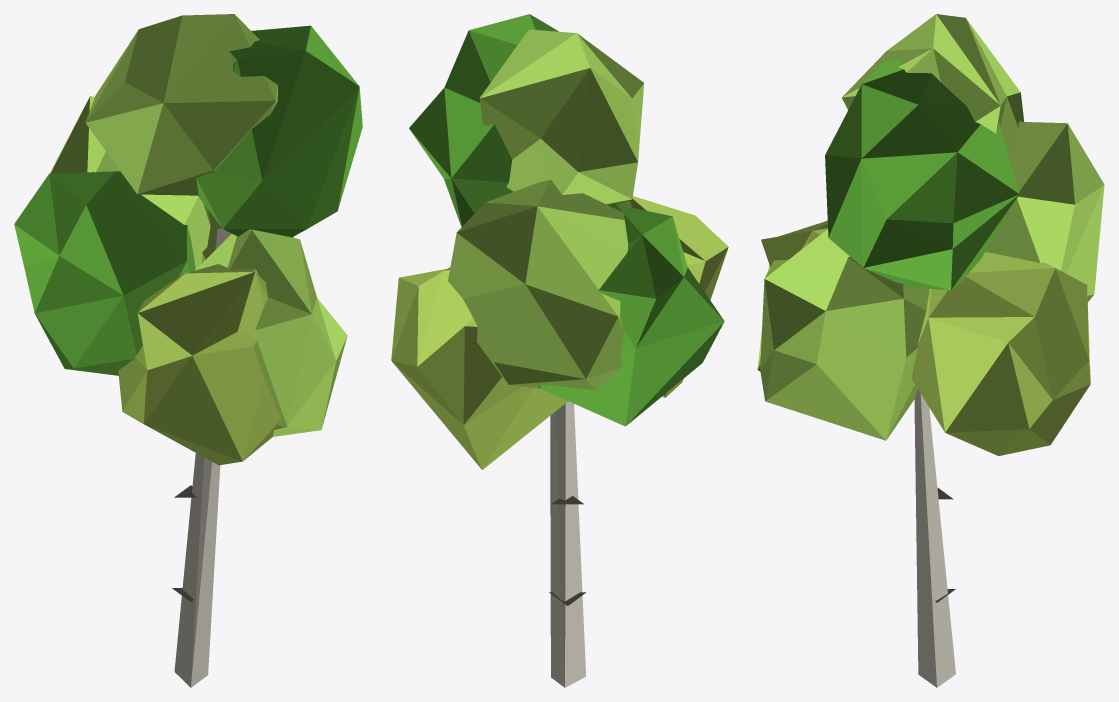
Rendered from tree_birch_2_lod1.glb.
3 renders of one model, left to right at view 1: azimuth 30°, elevation 25°; view 2: azimuth 150°, elevation 25°; view 3: azimuth 270°, elevation 25°, orthographic. The views are drawn at different scales.
Visible parts, largest first — view 1: tree_birch_2_lod1; view 2: tree_birch_2_lod1; view 3: tree_birch_2_lod1.
Part boxes in pixels (x1,y1,x2,y2): tree_birch_2_lod1: (14, 14, 362, 687); tree_birch_2_lod1: (391, 14, 728, 687); tree_birch_2_lod1: (757, 14, 1104, 687).
Size of the model in its own units: 3.62 by 7.37 by 3.51.
